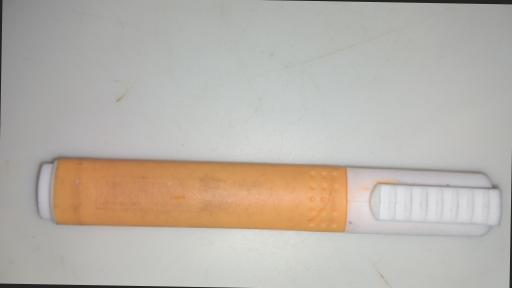Highlighter: (29, 156, 501, 236)
